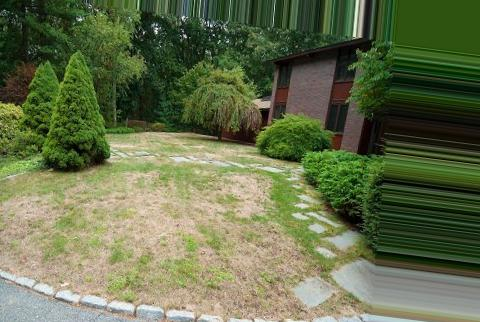patch: (65, 245, 132, 295), (240, 266, 296, 319), (221, 218, 277, 263), (131, 208, 195, 241), (120, 175, 172, 215), (210, 184, 268, 216), (12, 204, 65, 236), (267, 234, 309, 272), (230, 171, 269, 194), (116, 139, 165, 151), (147, 132, 165, 136)
